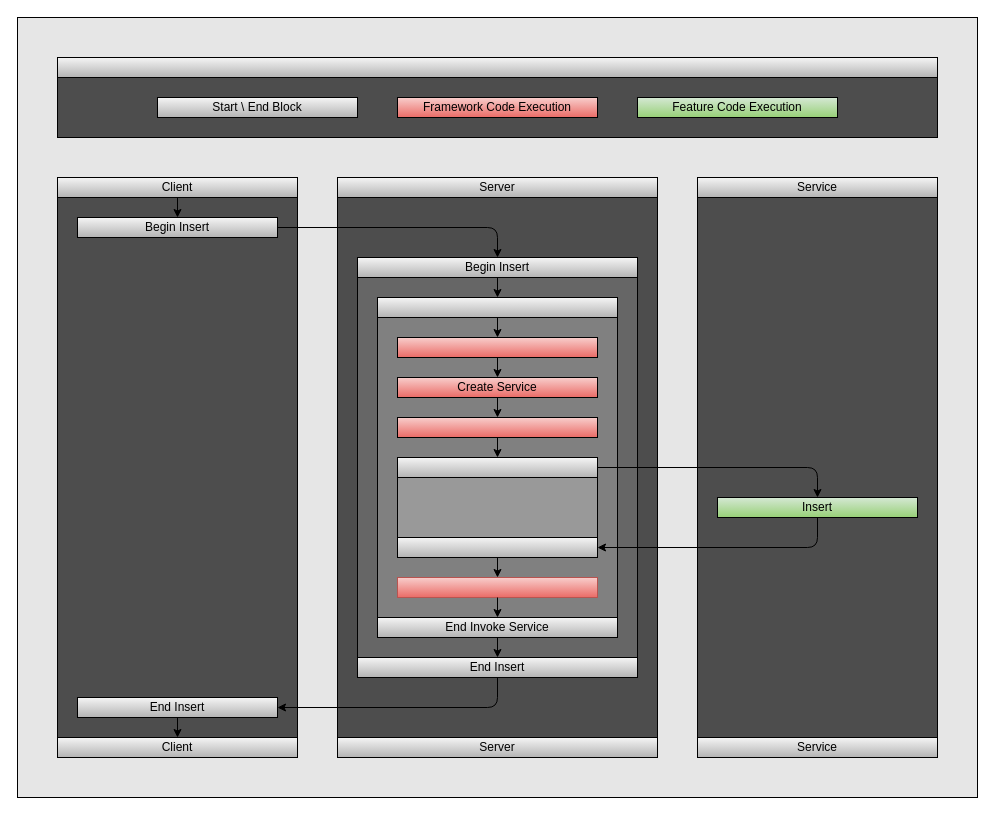
The diagram is 995 pixels wide and 815 high, and some of its shapes have lost their labels. Each missing label, with the centre of its shape:
"Begin Invoke Service" goes at [497,307].
"Begin Invoke Service Insert" goes at [497,467].
"Create Environment" goes at [497,347].
"End Invoke Service Insert" goes at [497,547].
"Legend" goes at [497,67].
"Parse DataResponse To Json" goes at [497,587].
"Parse Json To DataRequest" goes at [497,427].
